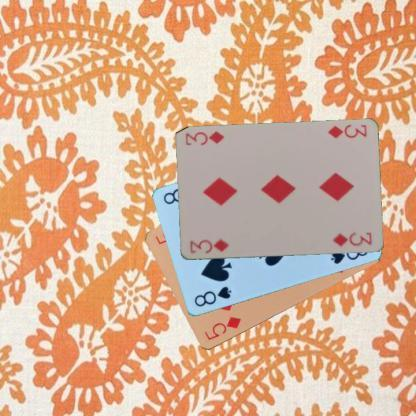3d: (324, 122, 368, 140), (187, 236, 230, 254)
5d: (202, 314, 242, 342)
8s: (191, 284, 233, 308)
